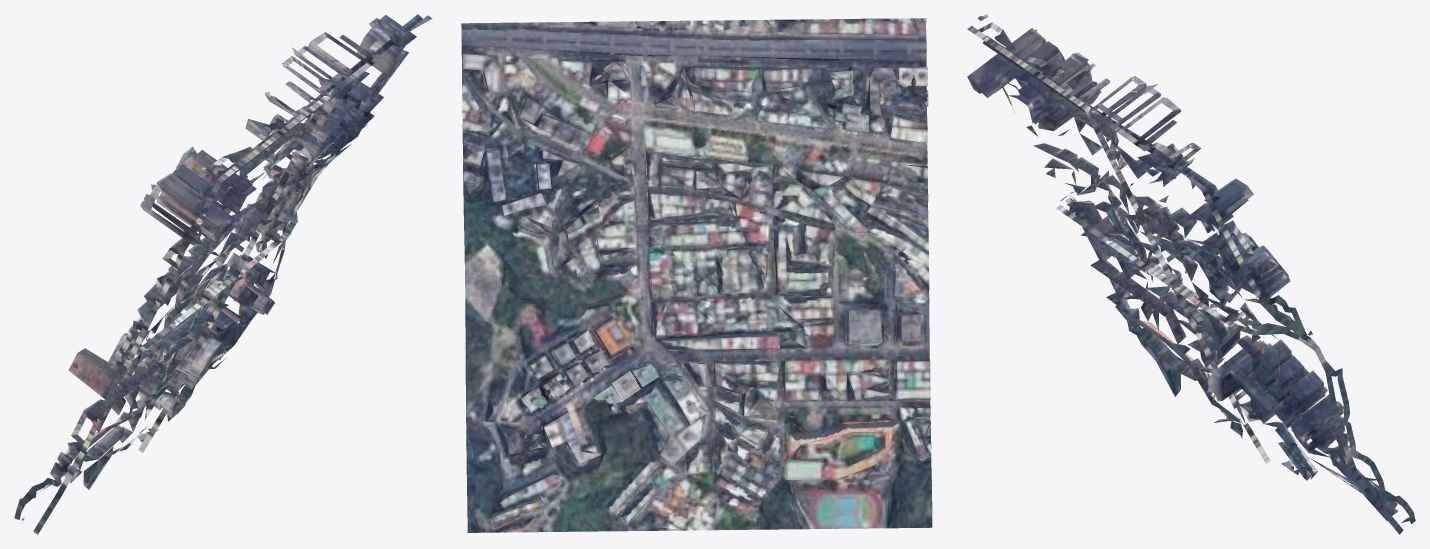
The picture shows the model from 3 angles, left to right: view 1: azimuth 30°, elevation 25°; view 2: azimuth 150°, elevation 25°; view 3: azimuth 270°, elevation 25°; orthographic projection. The views are drawn at different scales.
Size of the model in its own units: 633 by 586 by 555.
Materials: 1 (1 with a texture image).
